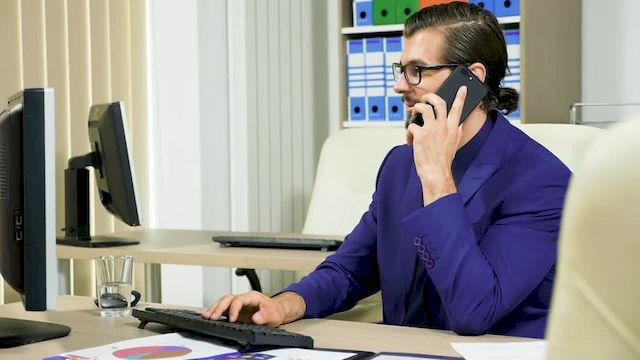phone: (418, 70, 494, 137)
talk: (393, 54, 488, 172)
